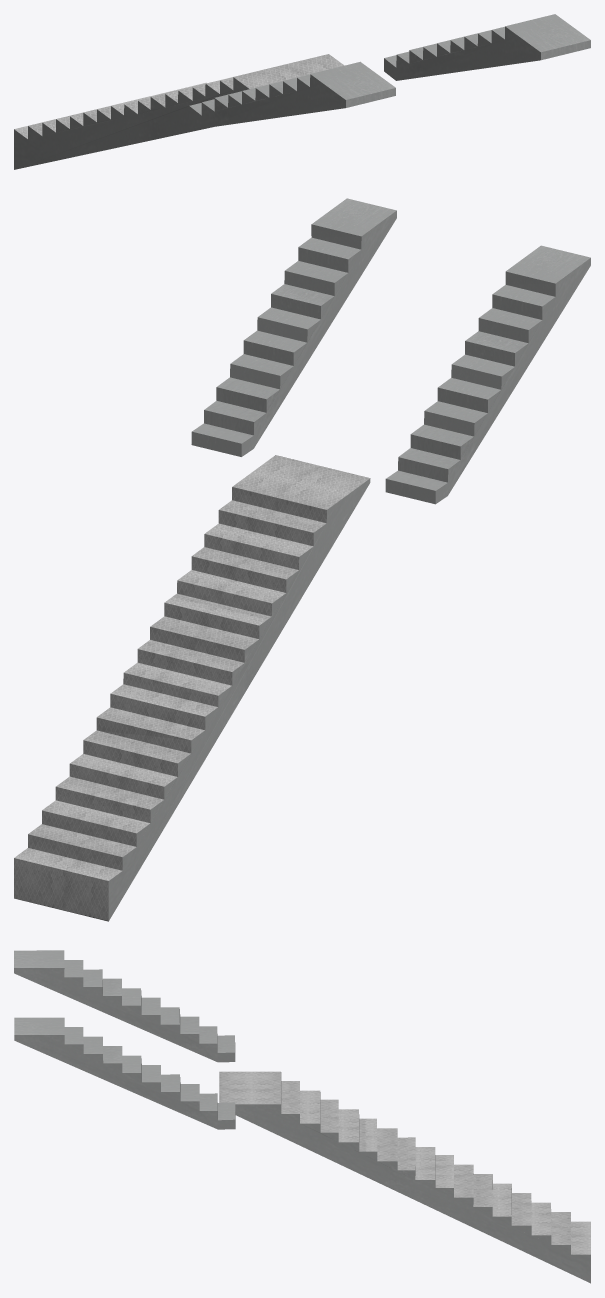
Rendered from Stair_05_Ufa.FBX.
3 views of the same model, one above another, from view 1: azimuth 30°, elevation 25°; view 2: azimuth 150°, elevation 25°; view 3: azimuth 270°, elevation 25° (orthographic). The views are drawn at different scales.
Visible parts, largest first — view 1: Stair_05_Ufa; view 2: Stair_05_Ufa; view 3: Stair_05_Ufa.
Boxes of the visible parts, x1=… form: Stair_05_Ufa: x1=14, y1=14, x2=590, y2=169; Stair_05_Ufa: x1=14, y1=198, x2=590, y2=921; Stair_05_Ufa: x1=14, y1=950, x2=590, y2=1283.
Size of the model in its own units: 4.61 by 6.96 by 13.29.
